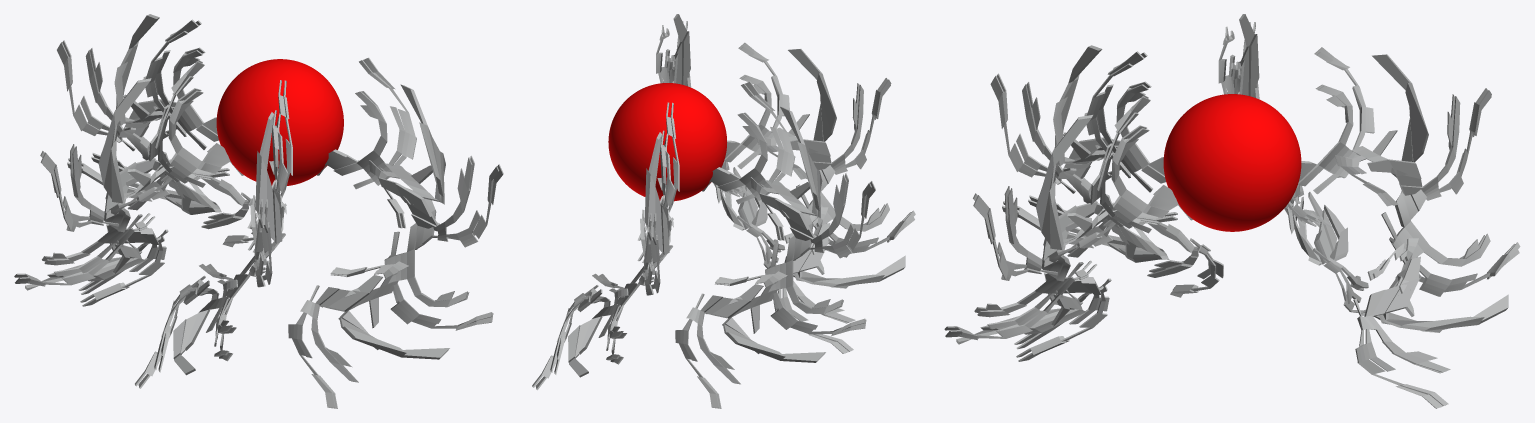
The model's file is orblightningtest.glb.
3 views of the same model, side by side, from view 1: azimuth 30°, elevation 25°; view 2: azimuth 150°, elevation 25°; view 3: azimuth 270°, elevation 25° (orthographic). The views are drawn at different scales.
Parts seen in each view (by area): view 1: mesh1c_obj_cleaner_materialmerger_gles; view 2: mesh1c_obj_cleaner_materialmerger_gles; view 3: mesh1c_obj_cleaner_materialmerger_gles.
Part boxes in pixels (left/top/right/bottom): mesh1c_obj_cleaner_materialmerger_gles: left=14, top=14, right=503, bottom=408; mesh1c_obj_cleaner_materialmerger_gles: left=532, top=14, right=915, bottom=408; mesh1c_obj_cleaner_materialmerger_gles: left=944, top=14, right=1520, bottom=408.
Bounding box in the file's own units: 82.4 × 66.37 × 111.
